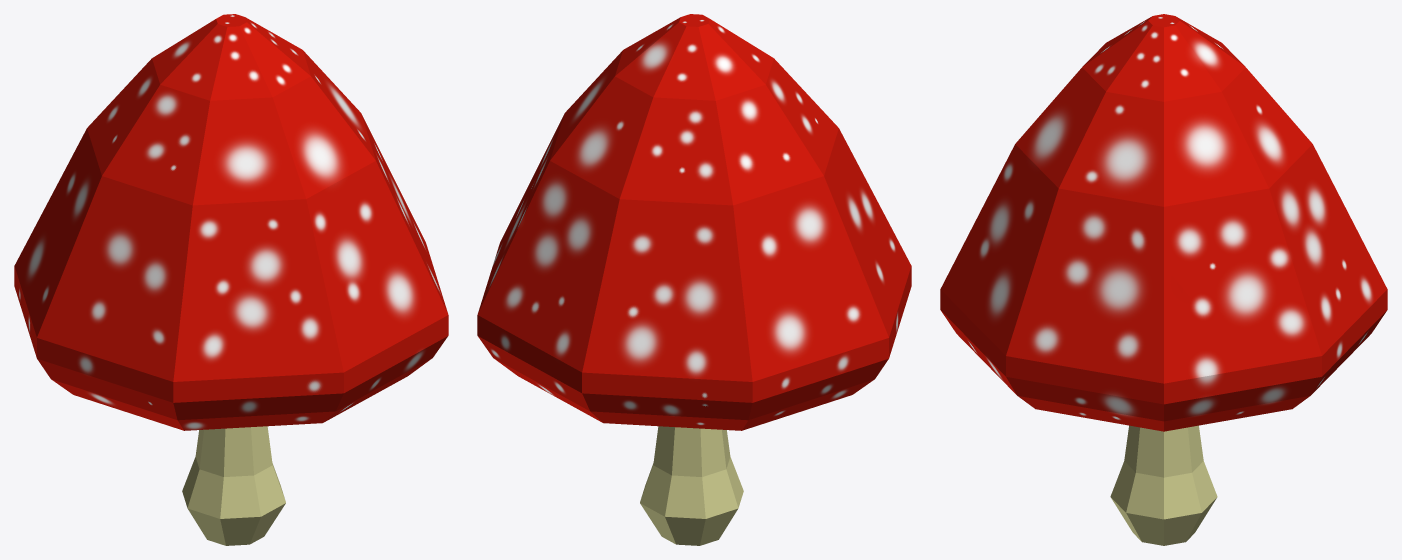
The model's file is RedShroom.fbx.
The picture shows the model from 3 angles, left to right: view 1: azimuth 30°, elevation 25°; view 2: azimuth 150°, elevation 25°; view 3: azimuth 270°, elevation 25°; orthographic projection.
Parts seen in each view (by area): view 1: Circle; view 2: Circle; view 3: Circle.
Boxes of the visible parts, x1,y1,x2,y2 form: Circle: (14,14,448,545); Circle: (477,14,911,545); Circle: (940,14,1387,545).
Size of the model in its own units: 15.66 by 19.74 by 15.66.
Materials: 1 (1 with a texture image).
